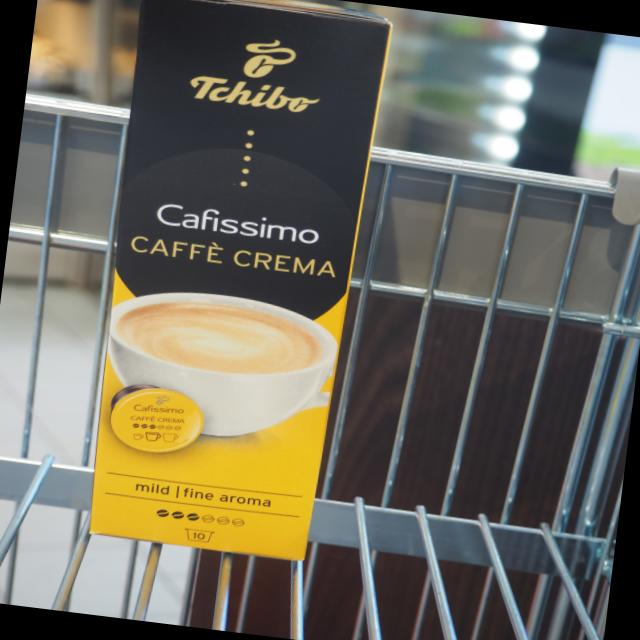Simo CCMild bigpack: (59, 0, 397, 569)
